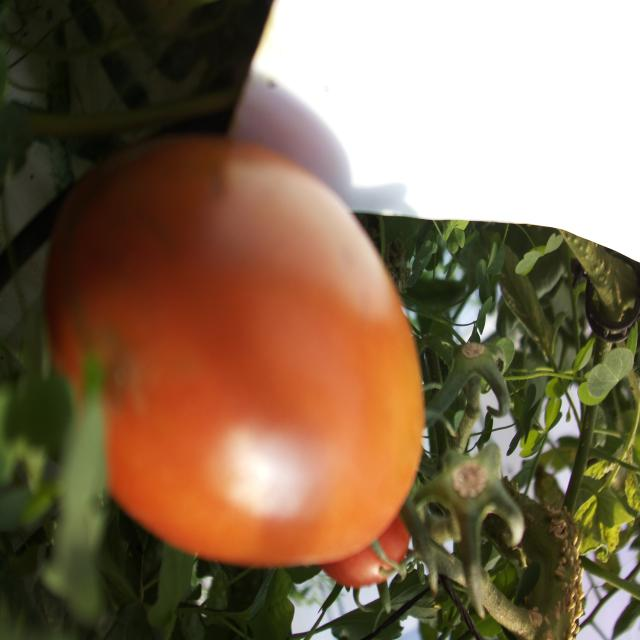kirmizi: (46, 139, 440, 583)
